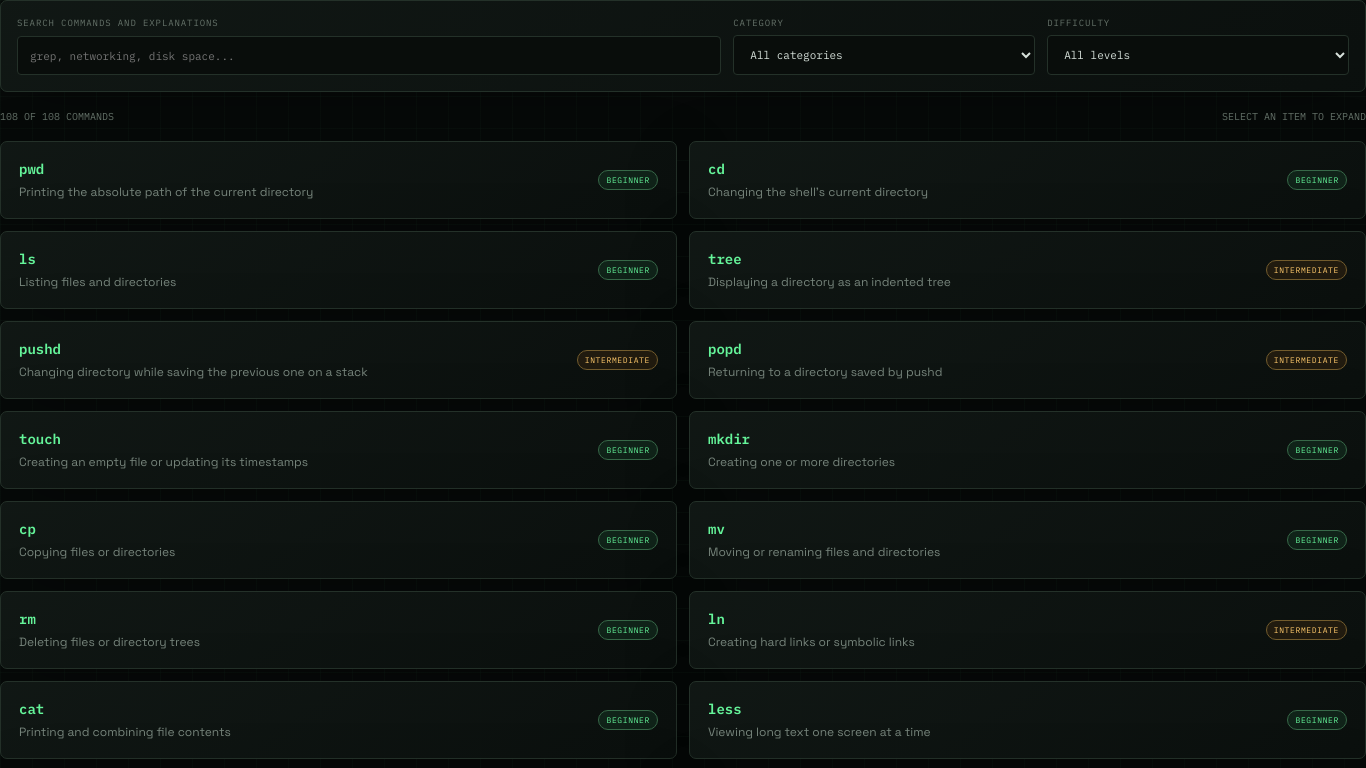
Test: Linux reference library › renders expandable commands and filters explanation text
Expected: the text "pwd" is shown, left=19, top=160, right=44, bottom=178
In the search field labelled "search commands and explanations": (369, 56) left=17, top=36, right=721, bottom=75, type "certificates"
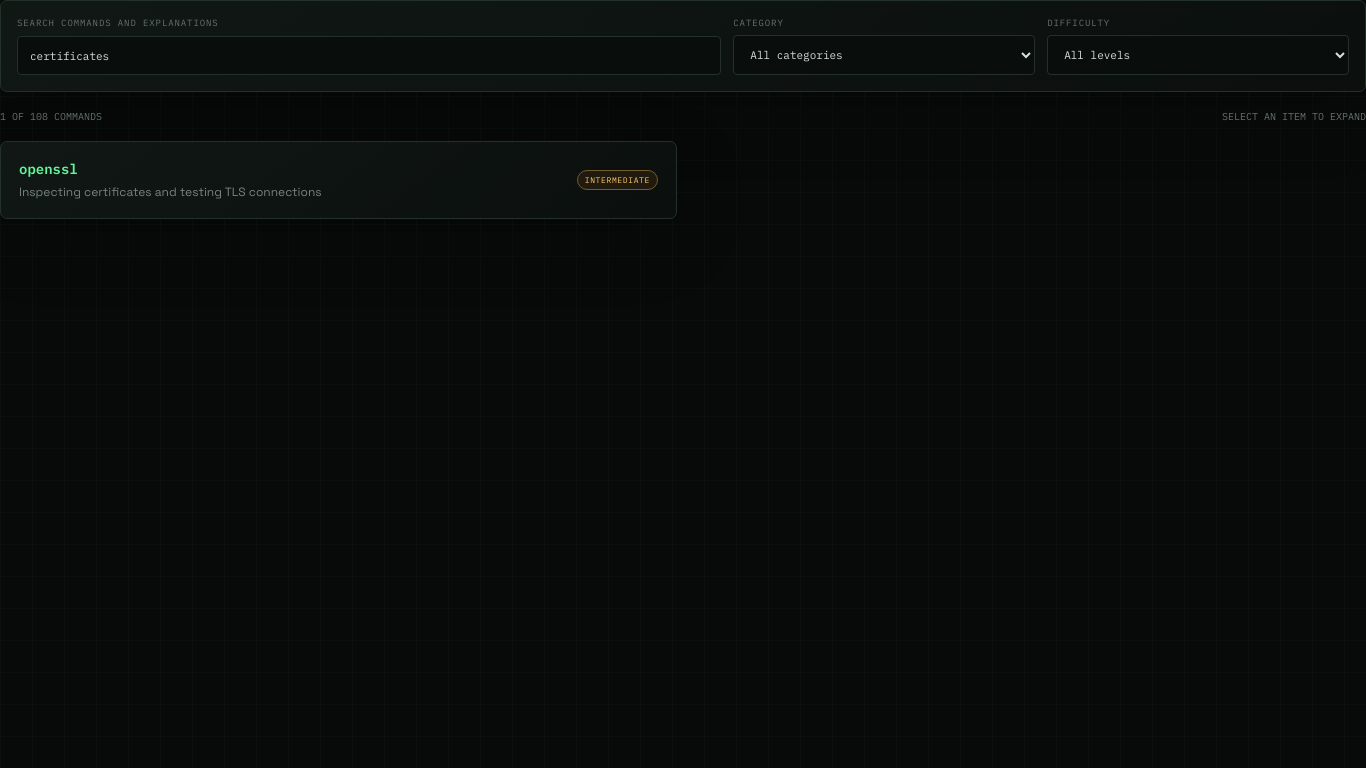
Expected: the text "openssl" is shown, left=19, top=160, right=78, bottom=178
Expected: the heading "pwd" is gone
